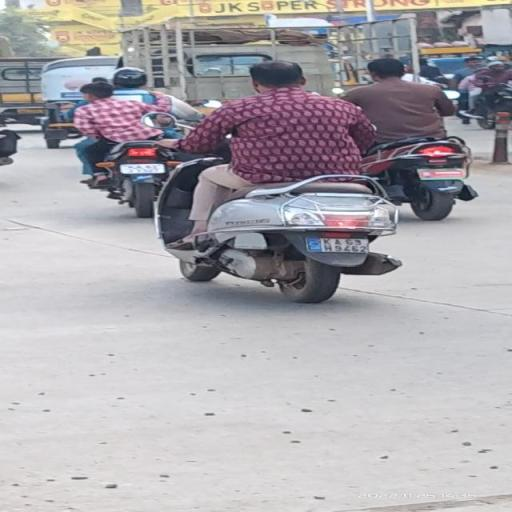numberplate: (306, 236, 372, 254)
withouthelmet: (251, 62, 305, 91)
